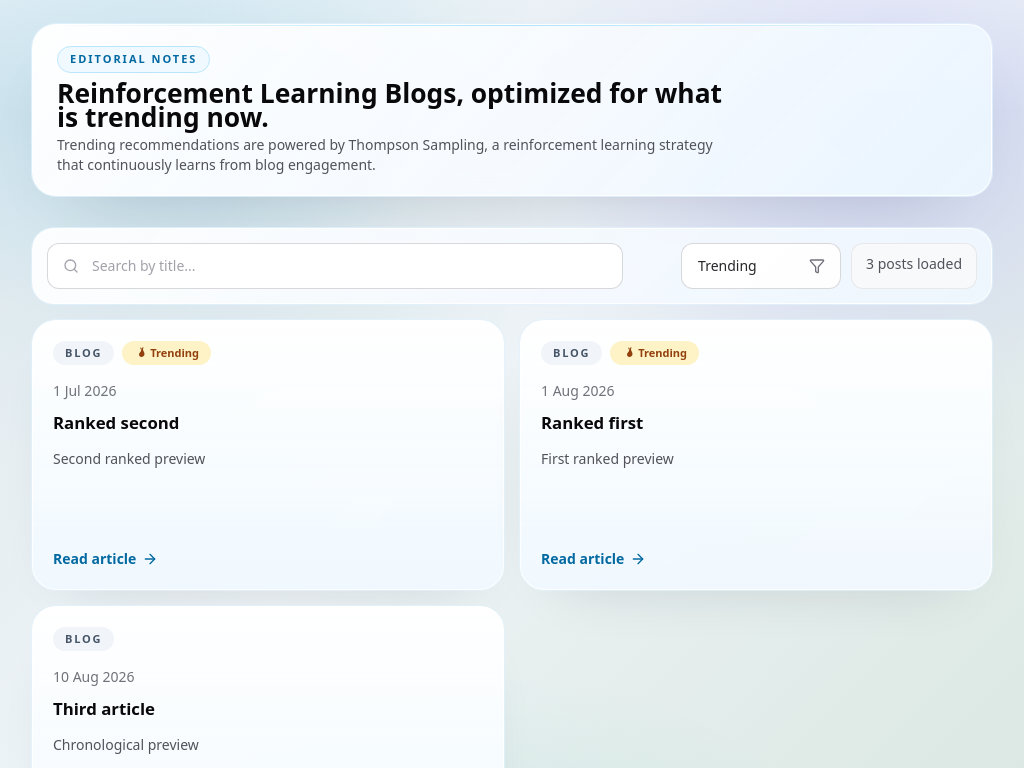
Test case: uses the bounded trending request and merges ranked posts first without duplicates
expect the heading "Third article" is shown: met, box [53,697,155,720]
expect the headings read "Ranked second", "Ranked first", "Third article", in this order: met, box [53,411,180,434]; [541,411,643,434]; [53,697,155,720]
Type "Third" into the field named "Search blogs by title". click: (335, 266)
box: [47,242,623,288]
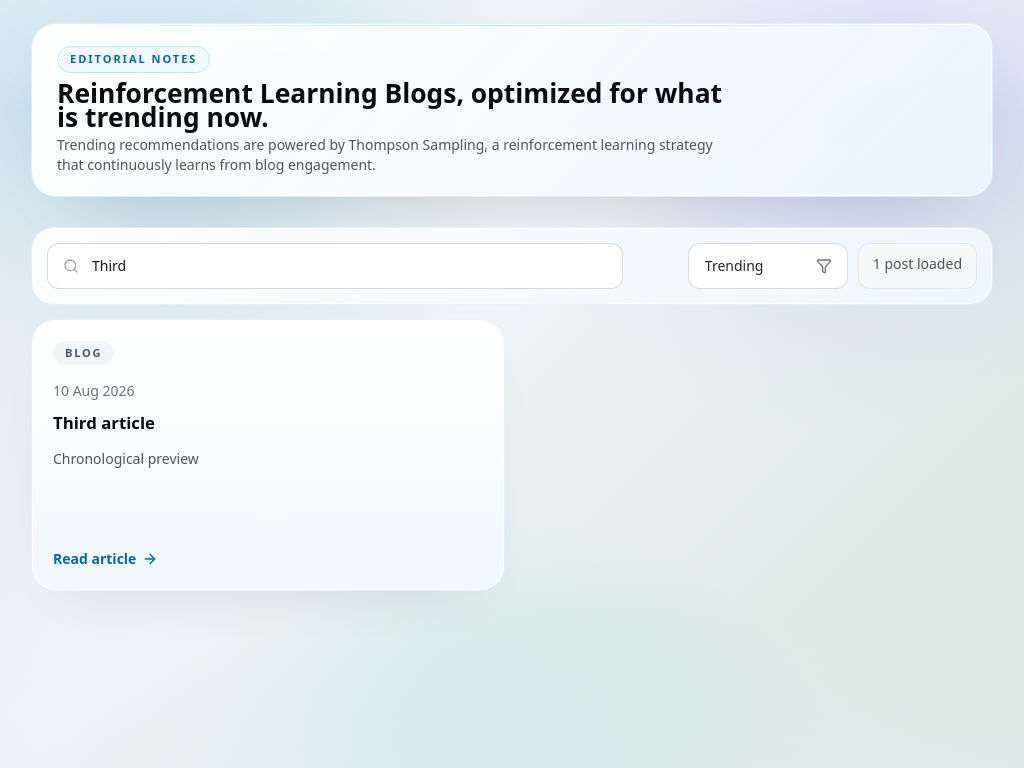
expect the headings read "Third article", in this order: met, box [53,411,155,434]
